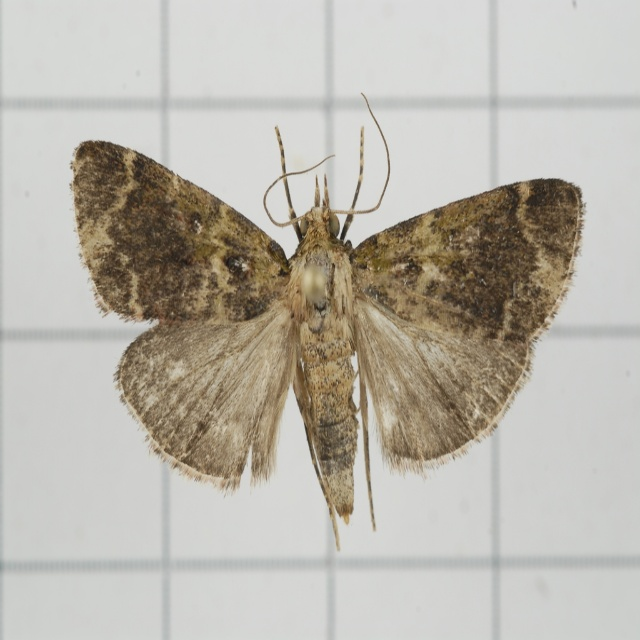Butterfly: (63, 105, 598, 525)
